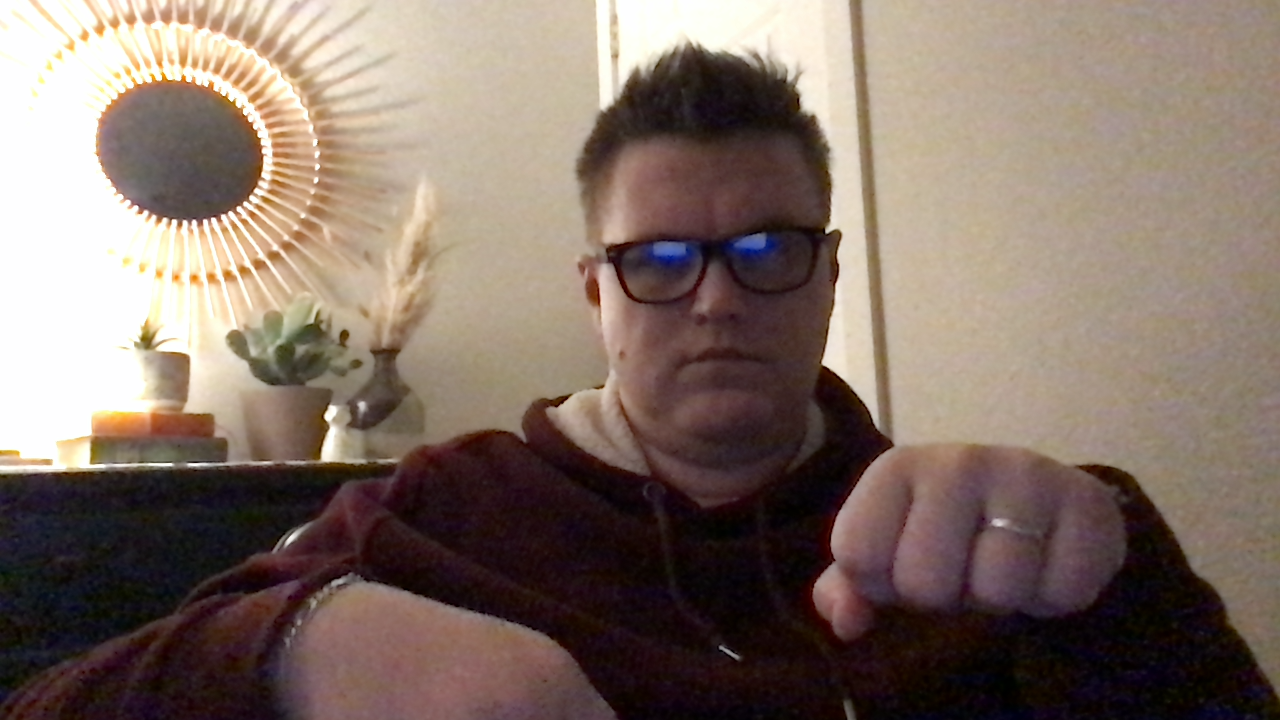yes: (812, 441, 1154, 643)
